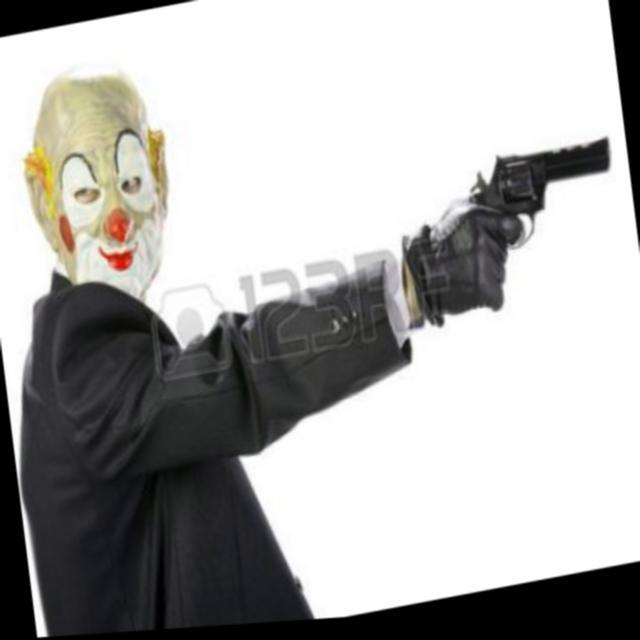weapon: (423, 132, 634, 318)
